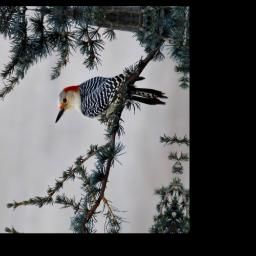Woodpecker: (55, 67, 169, 133)
